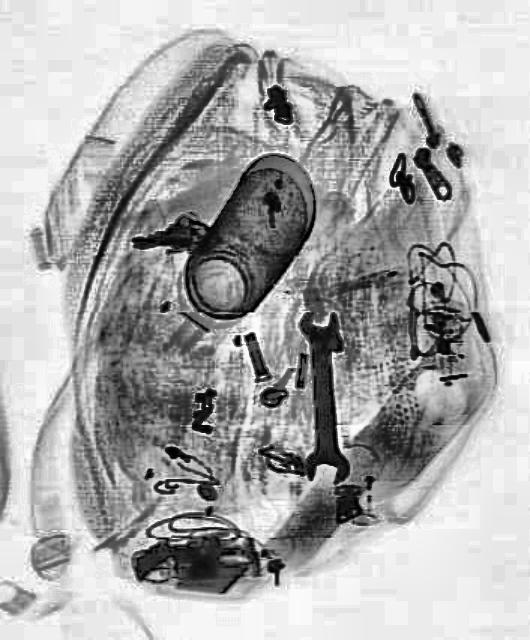Wrench: (297, 306, 348, 484)
